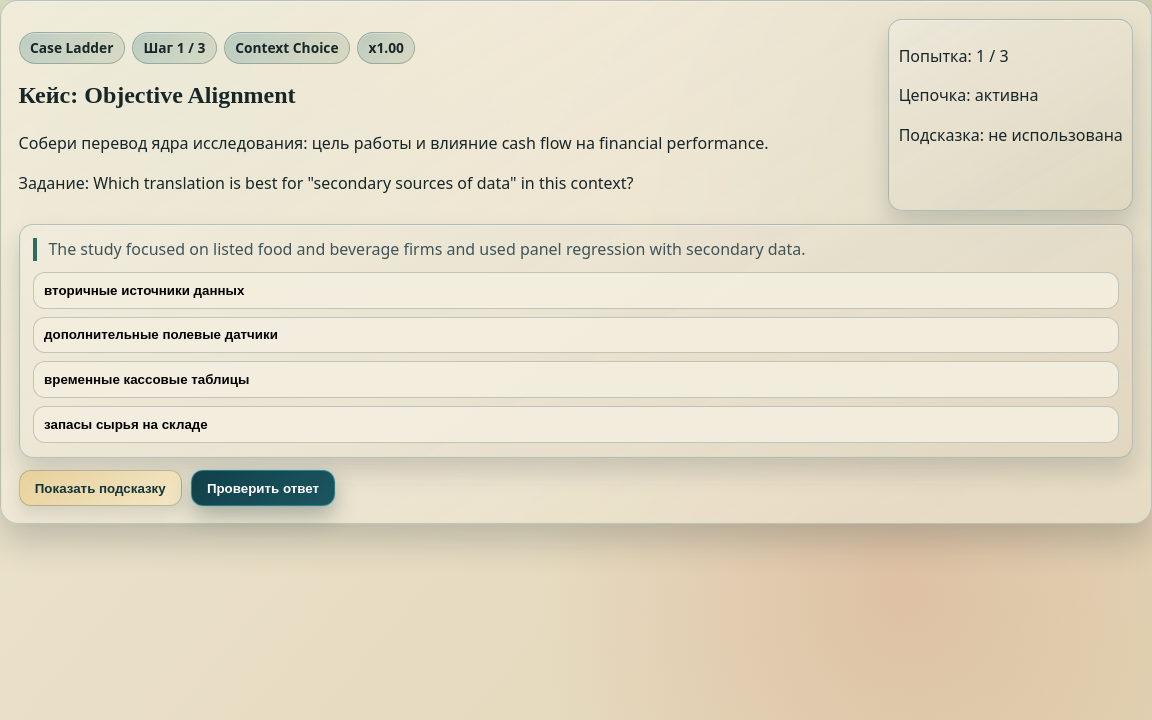
Test: CasePage › renders case ladder flow and allows answer check
Expected: the heading "Кейс: Objective Alignment" is shown, left=19, top=82, right=296, bottom=108
Expected: the text "Шаг 1 / 3" is shown, left=132, top=32, right=217, bottom=64
Click the button "вторичные источники данных" at x=144, y=290, box left=33, top=272, right=1119, bottom=308
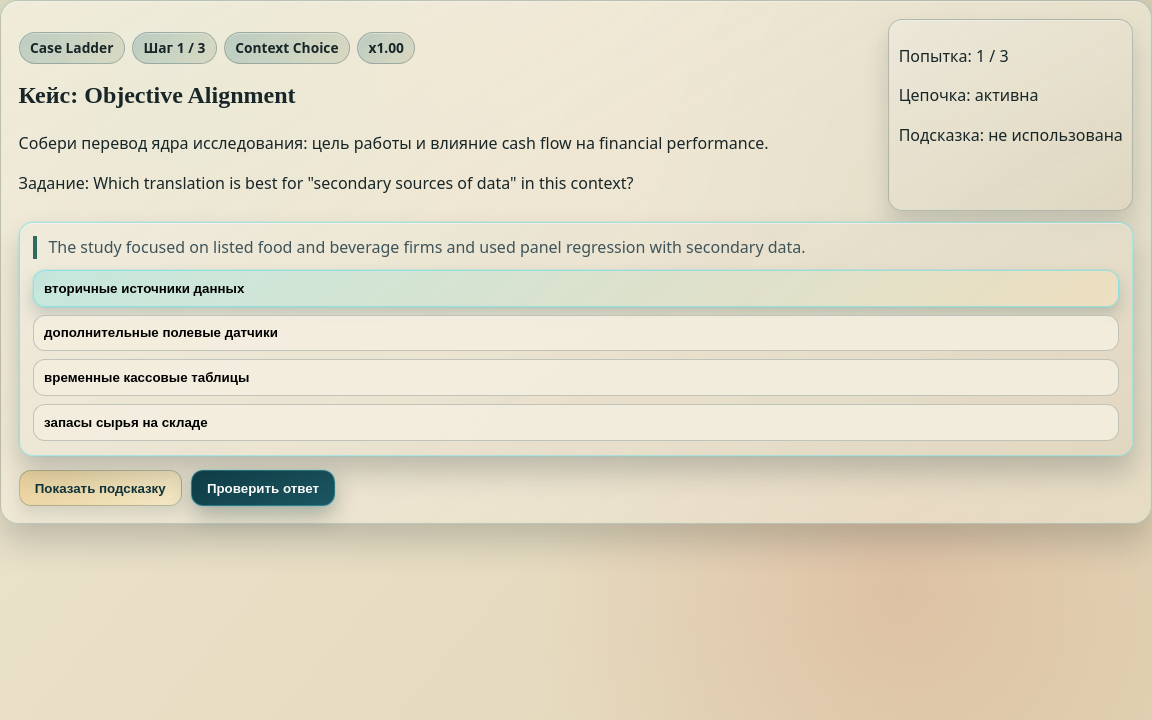
Click the button "Проверить ответ" at x=263, y=488, box left=191, top=470, right=335, bottom=506
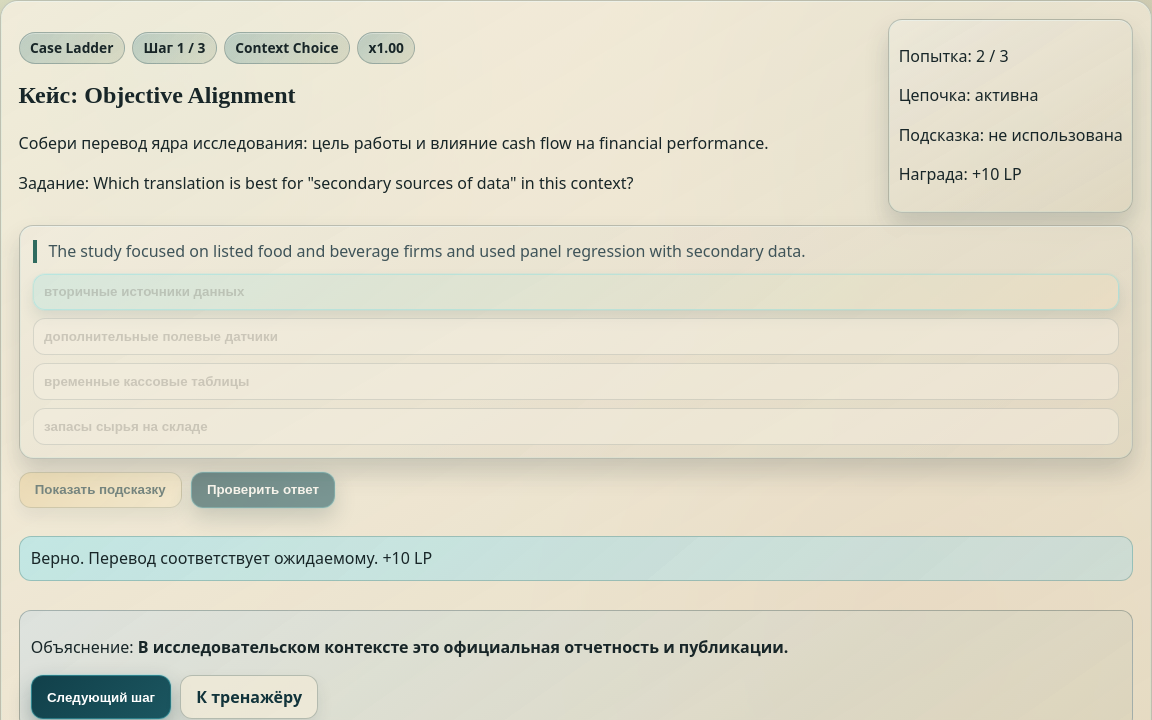
Expected: the text "Объяснение:" is shown, left=31, top=636, right=138, bottom=658
Expected: the button "Следующий шаг" is shown, left=31, top=675, right=171, bottom=719
